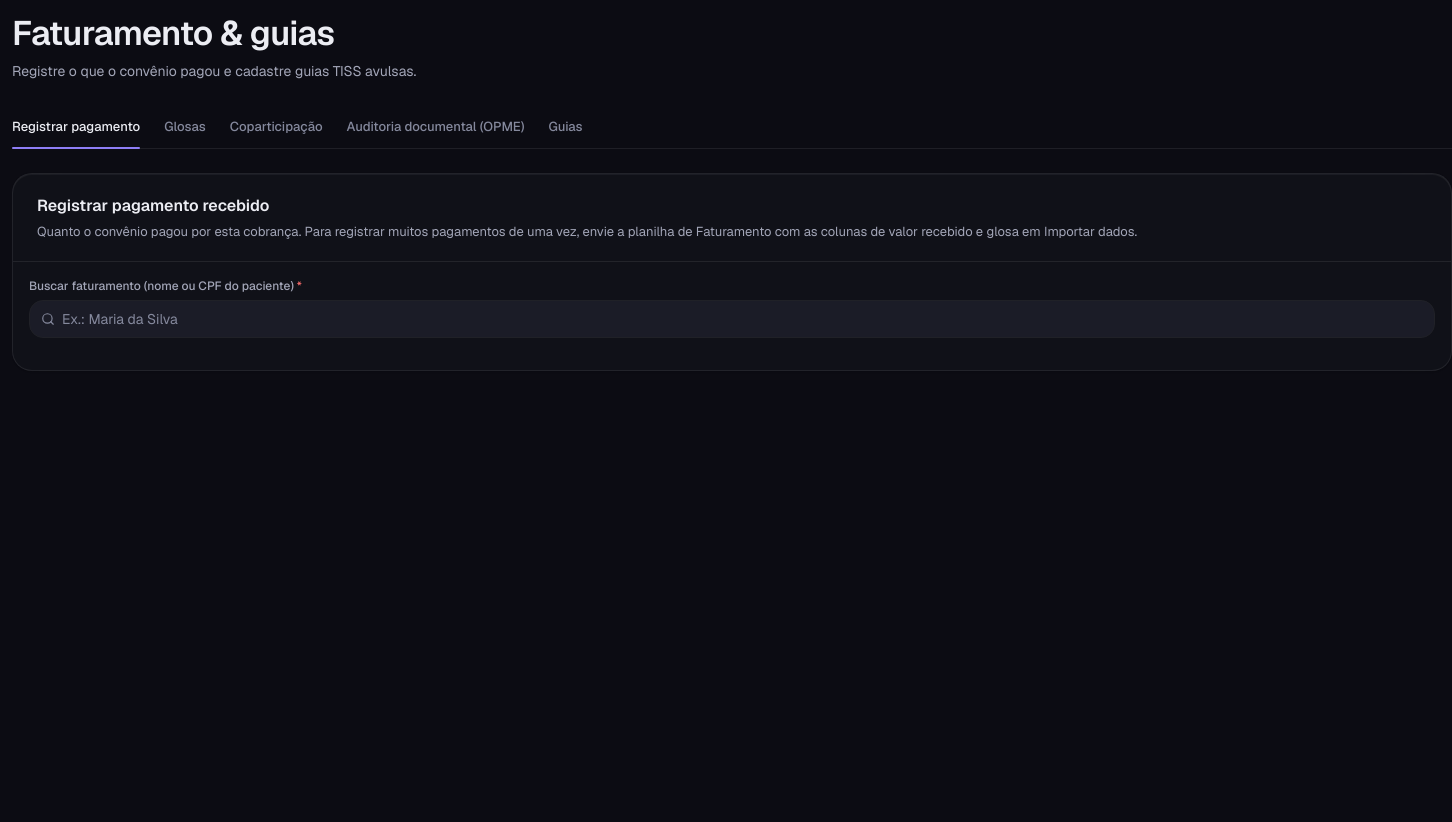
Test: BillingOperationsPage — aba Glosas › glosa importada não oferece corrigir nem excluir
The image size is (1452, 822).
Click the tab "Glosas". click: (185,126)
box: [164,104,206,148]
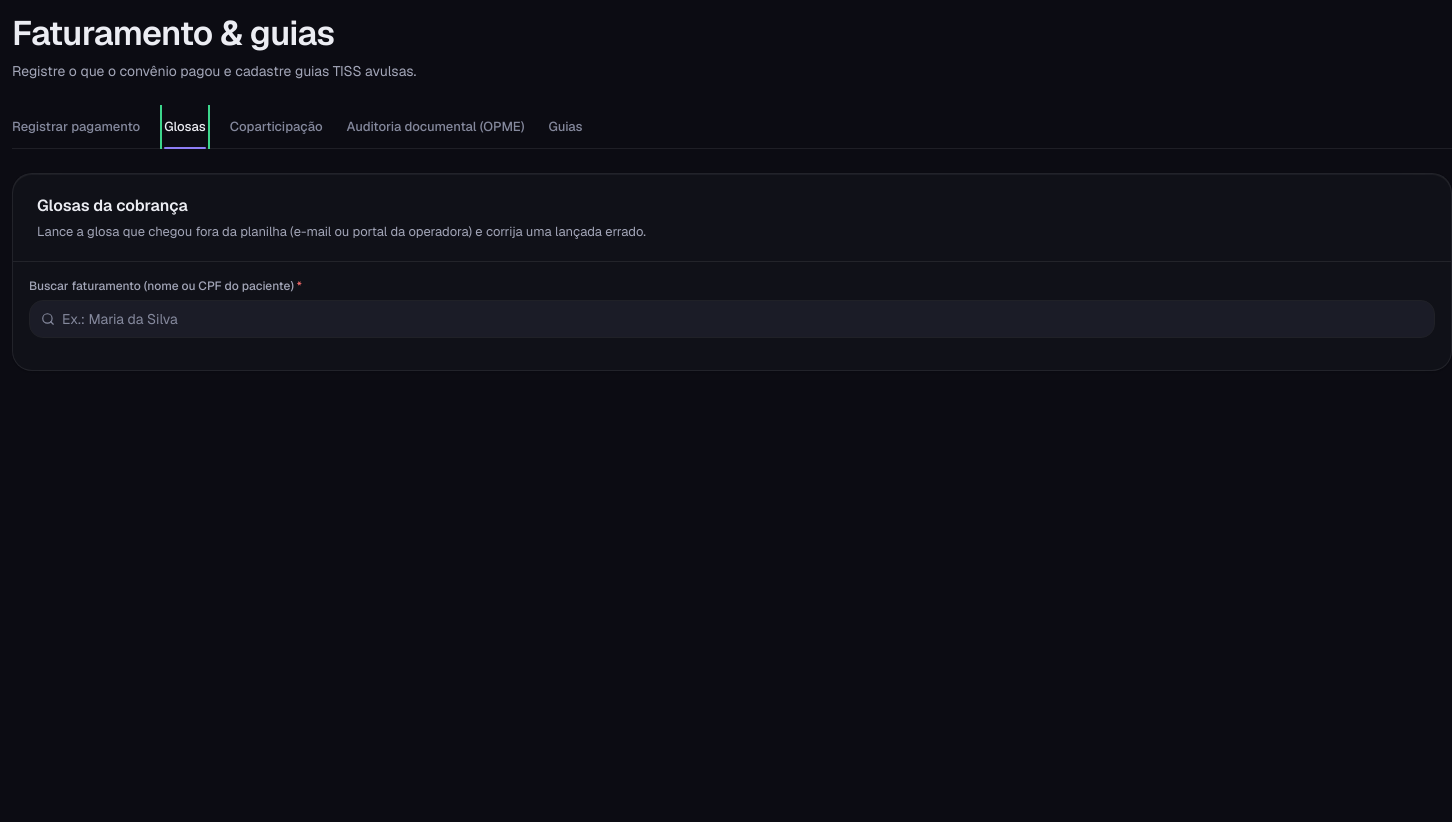
Type "Maria da Silva" into the field labelled "Buscar faturamento (nome ou CPF do paciente) *". click: (732,319)
box: [29,300,1435,338]
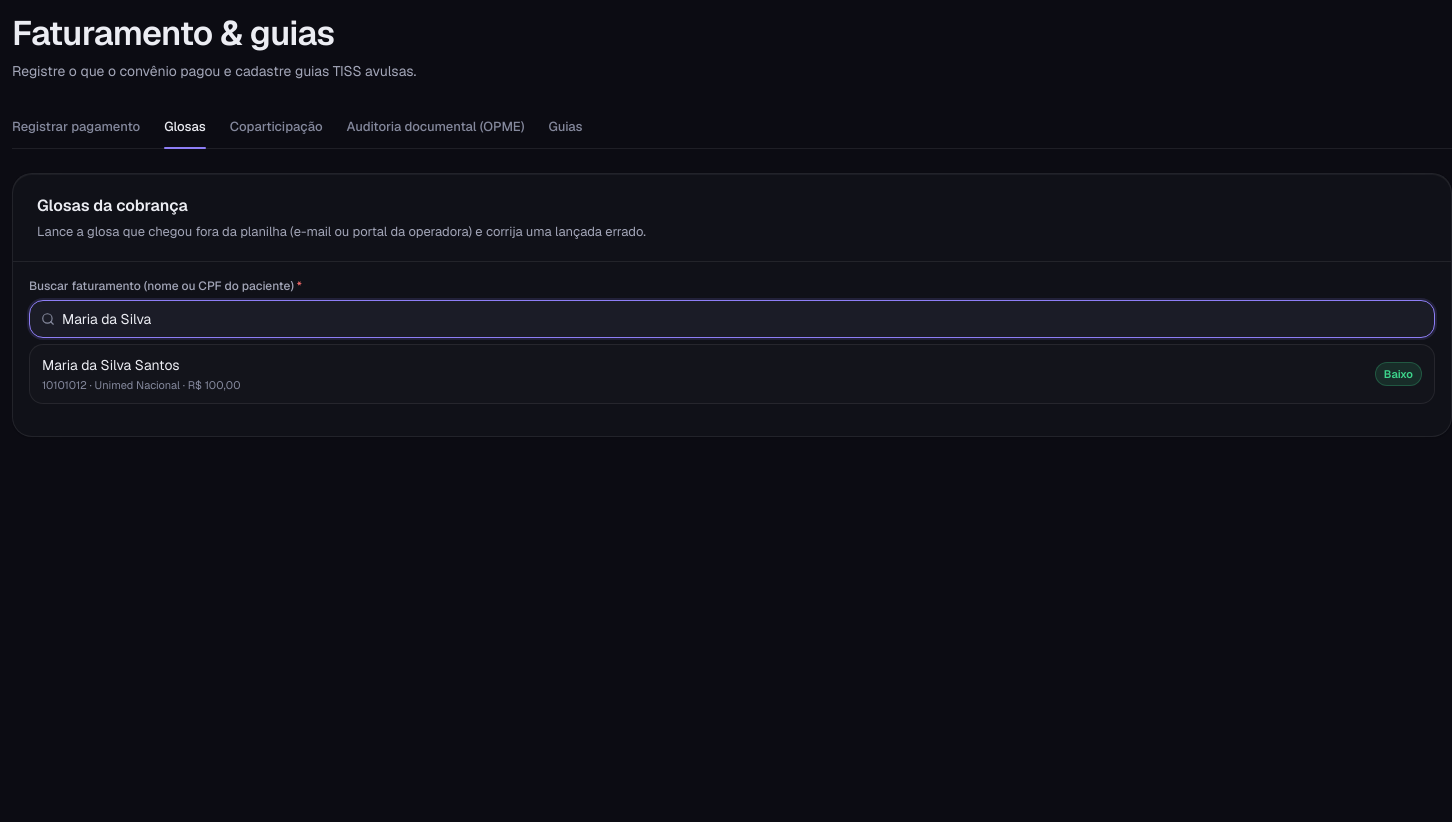
Result: the text "Maria da Silva Santos" is shown
Click the text "Maria da Silva Santos". click: (111,365)
box: [42,356,180,374]
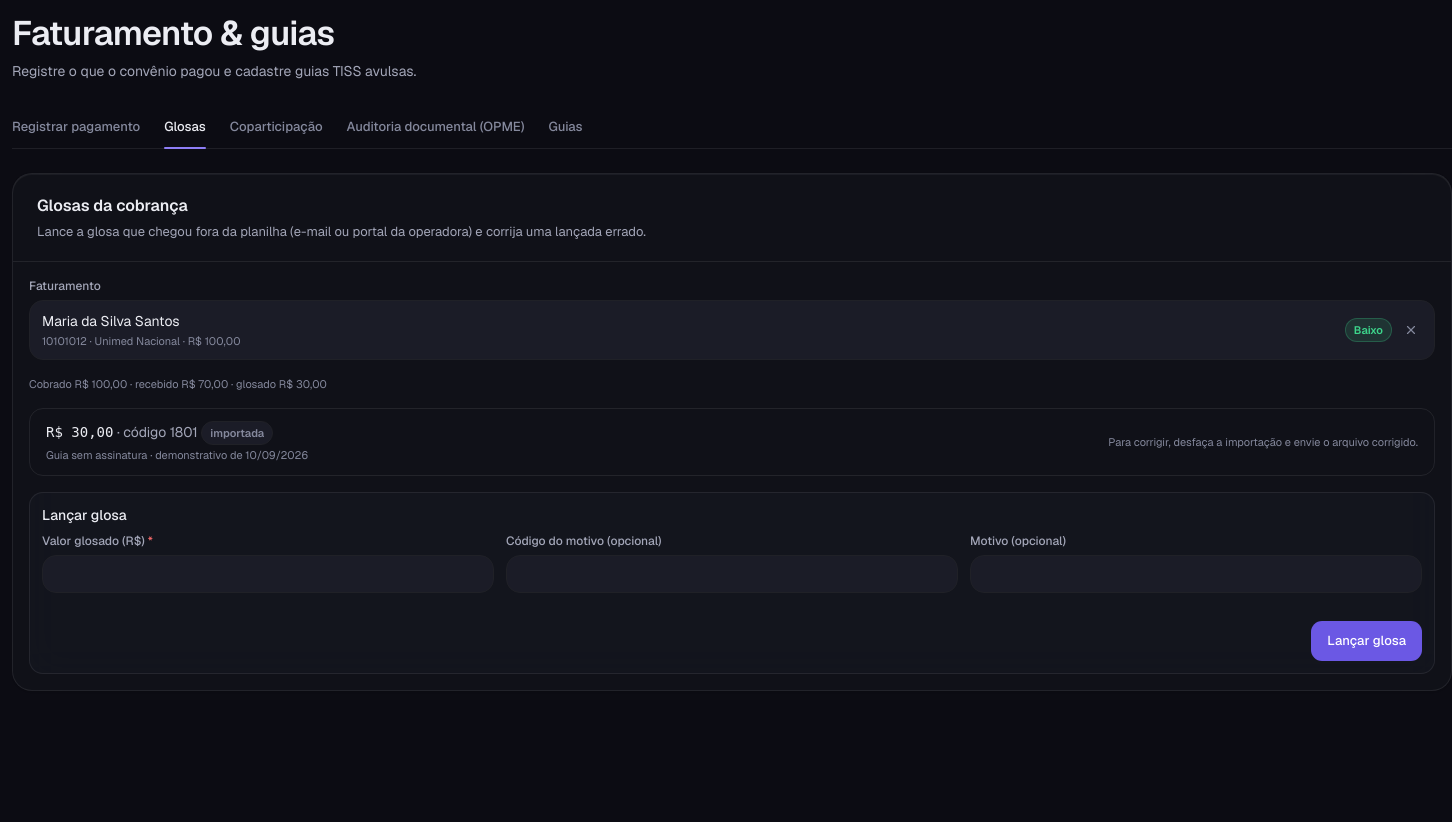
Result: the text "importada" is shown at [201,421,273,445]
Result: the text "desfaça a importação" is shown at [1108,435,1418,449]
